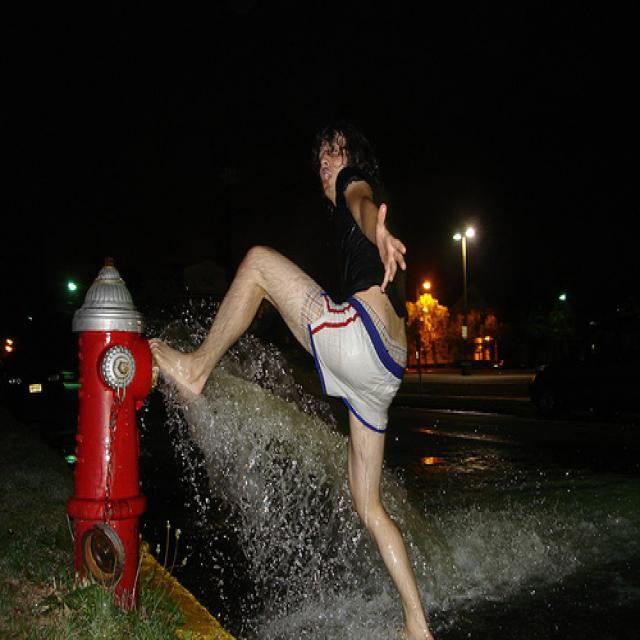fire_hydrant: (65, 256, 159, 610)
